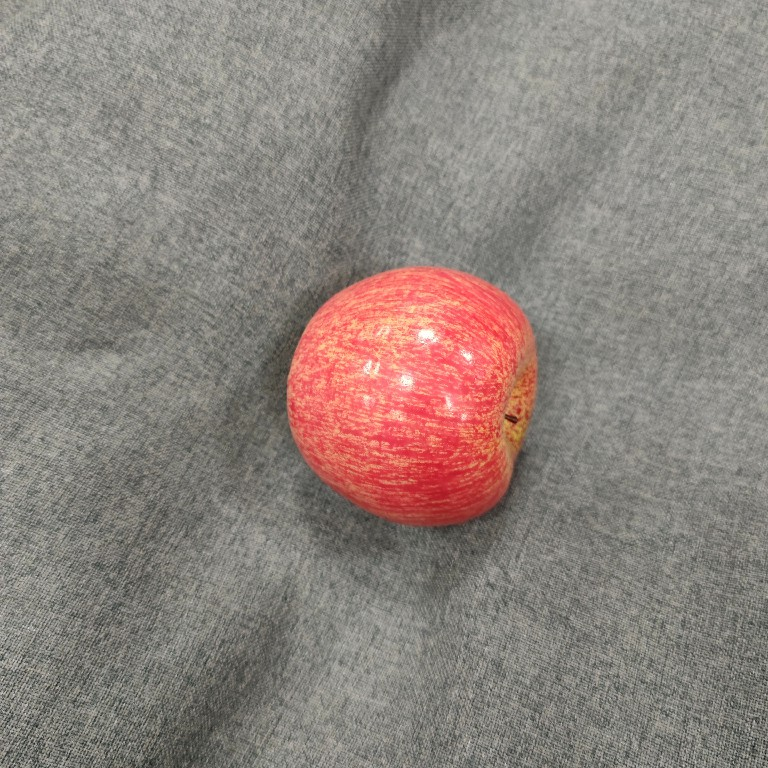fruit_apple: (276, 258, 546, 533)
